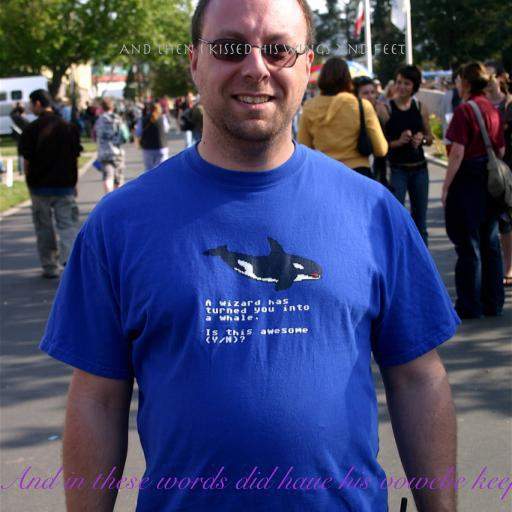Herculanum: (118, 43, 406, 56)
Snell Roundhand: (0, 466, 512, 500)
